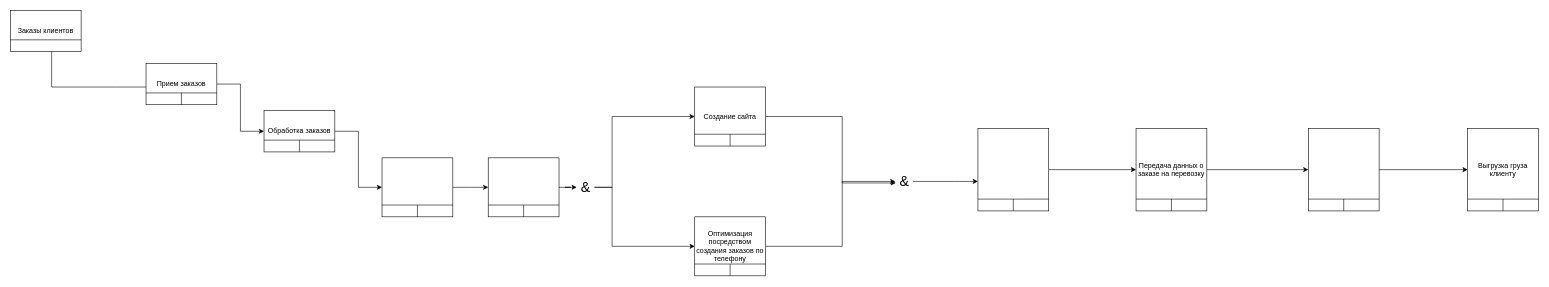
This 1549x287 diagram has some shape labels left out. Here are the shapes that lost their labels. From the top down, the centre of each, then its label:
pixel 417 187: Анализ заказов (учет и исследование)
pixel 523 187: Сопровождение заказа
pixel 1013 169: Утверждение сформированного исследования и реинжиниринга с руководством
pixel 1343 169: Перевозка грузов
